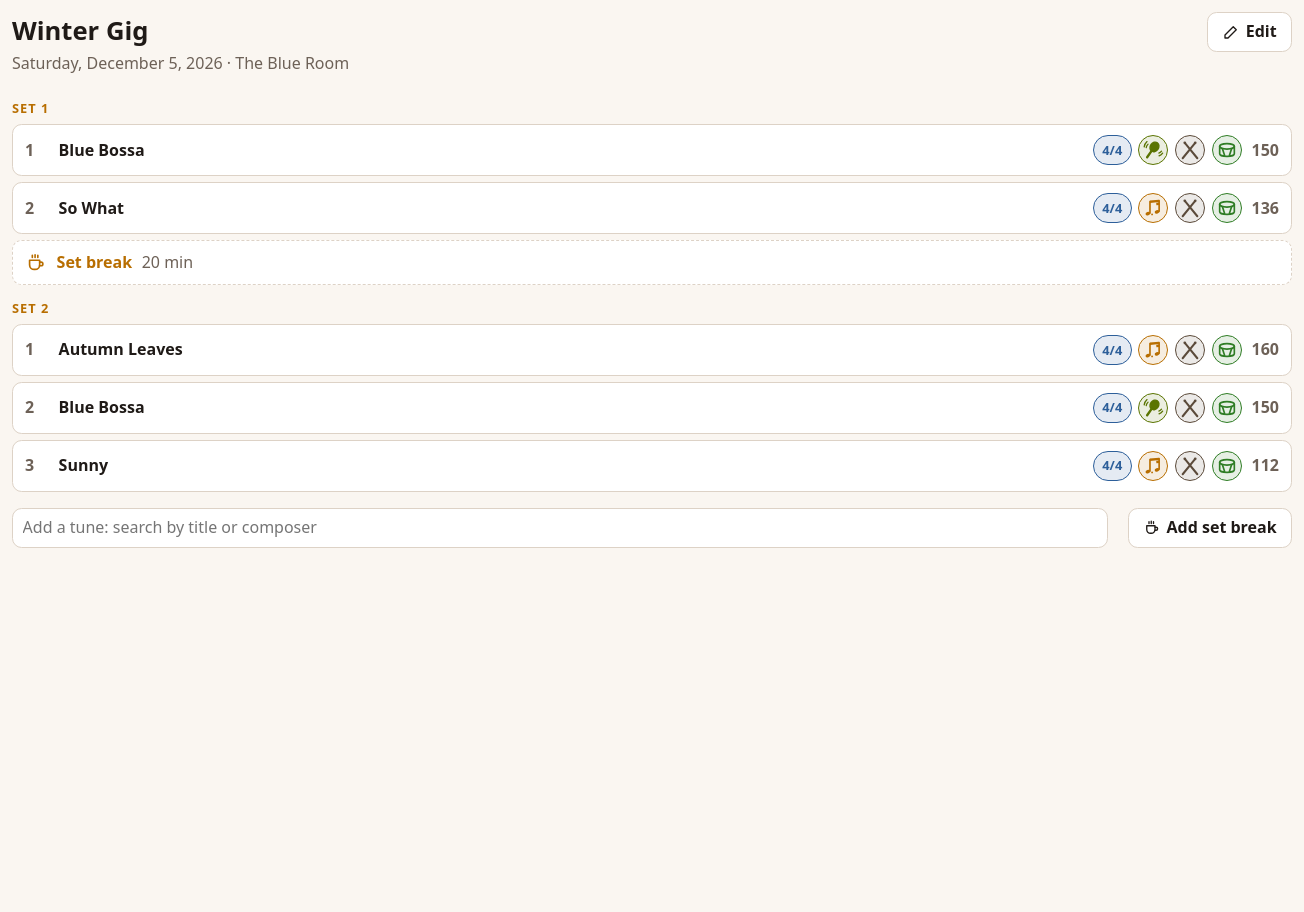
Test case: SetlistPage › opens a tune in setlist mode: set and tune number, Next with the next set, an Edit link back to it
Click the button "2 So What 4/4 136": {"x": 91, "y": 208} [13,183,1291,233]
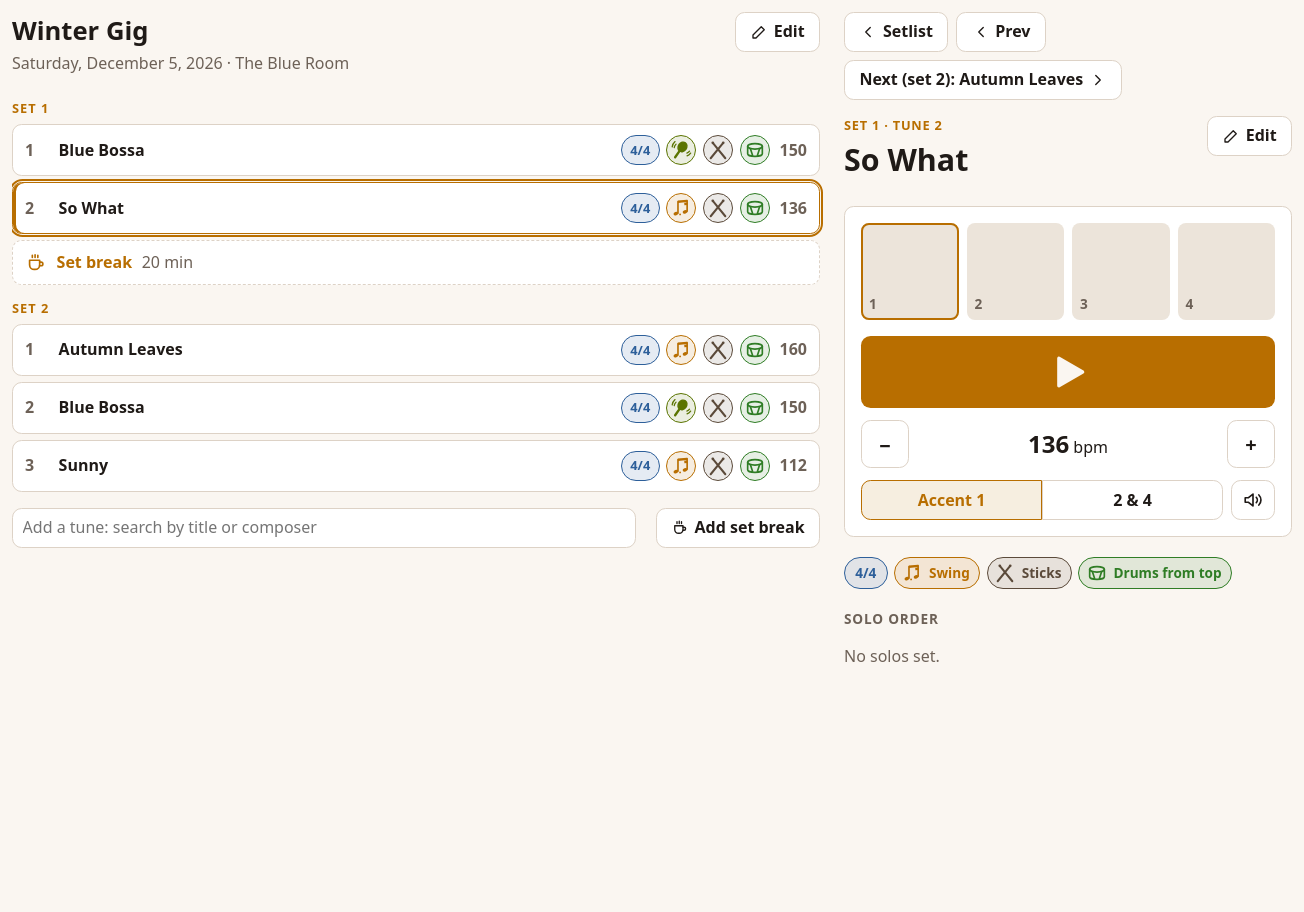
Result: the text "Set 1 · Tune 2" is shown at [844,116,943,134]
Result: the heading "So What" is shown at [844,139,968,180]
Result: the button "Next (set 2): Autumn Leaves" is shown at [844,60,1122,100]
Click the button "Prev": {"x": 1001, "y": 32} [956,12,1046,52]
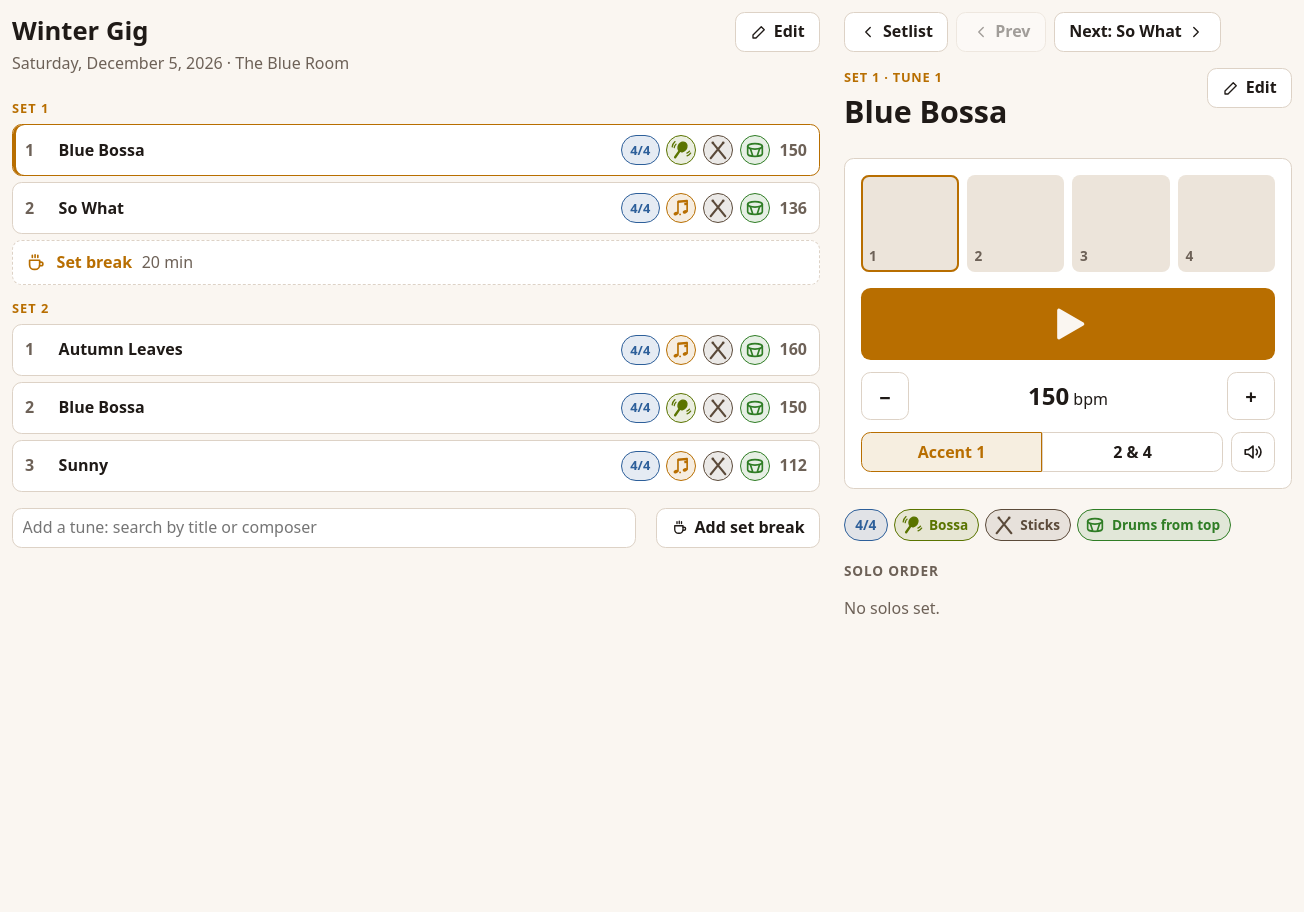
Result: the text "Set 1 · Tune 1" is shown at [844,68,943,86]
Result: the button "Prev" is disabled at [956,12,1046,52]
